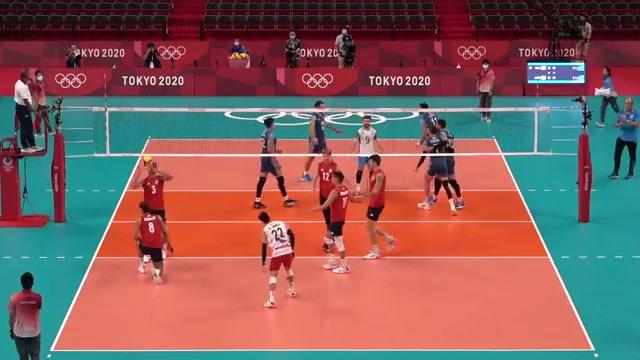ball: (140, 155, 154, 168)
